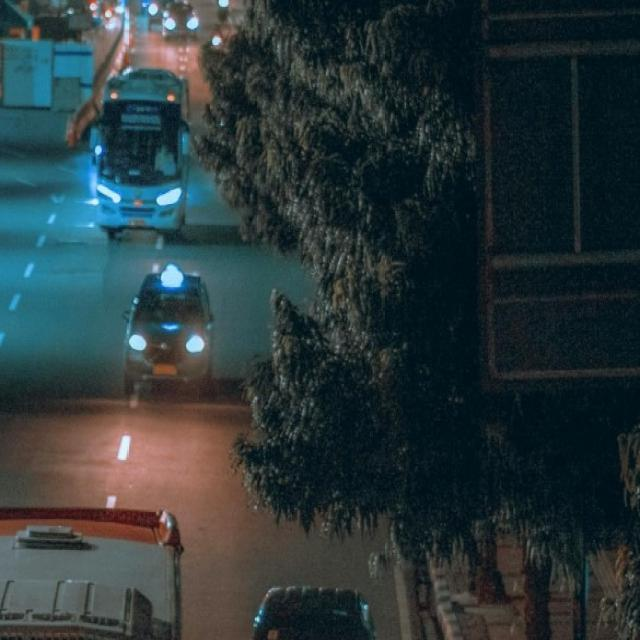bus: (0, 499, 205, 640), (94, 68, 190, 240)
car: (120, 263, 213, 398), (222, 582, 390, 640), (161, 1, 199, 42)
